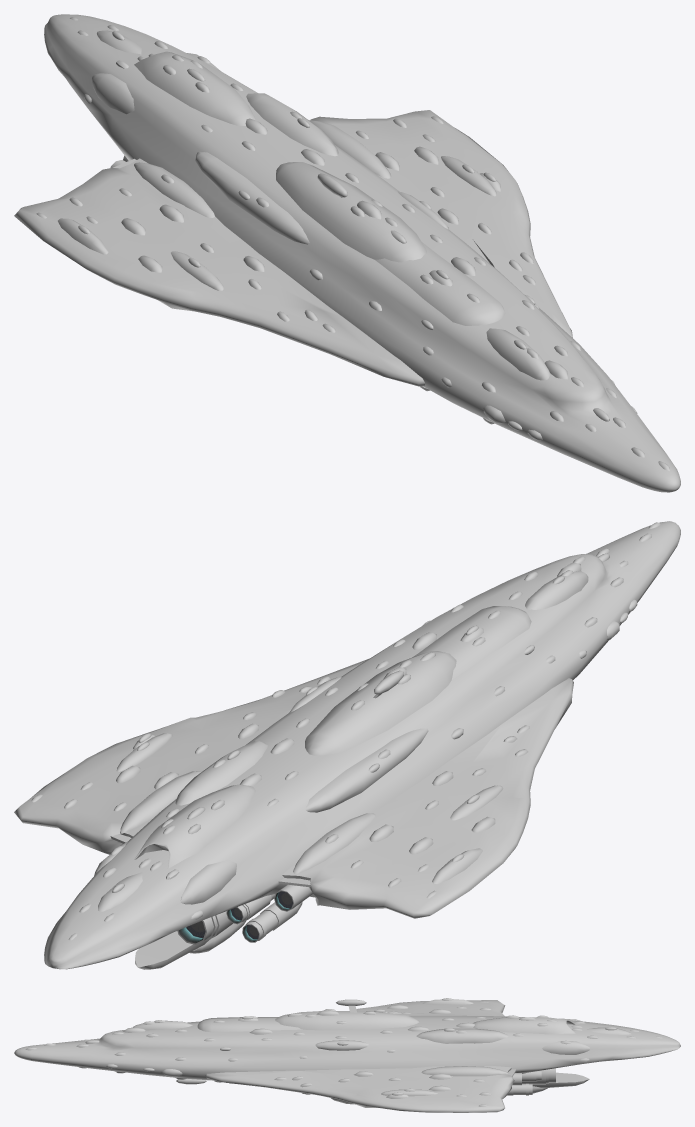
The picture shows the model from 3 angles, top to bottom: view 1: azimuth 30°, elevation 25°; view 2: azimuth 150°, elevation 25°; view 3: azimuth 270°, elevation 25°; orthographic projection. The views are drawn at different scales.
Visible parts, largest first — view 1: lod0; view 2: lod0, Group6; view 3: lod0.
Boxes of the visible parts, x1=… form: lod0: x1=14, y1=14, x2=680, y2=492; lod0: x1=14, y1=521, x2=680, y2=969; Group6: x1=178, y1=891, x2=292, y2=943; lod0: x1=14, y1=998, x2=680, y2=1112.
Size of the model in its own units: 949 by 332 by 2401.
